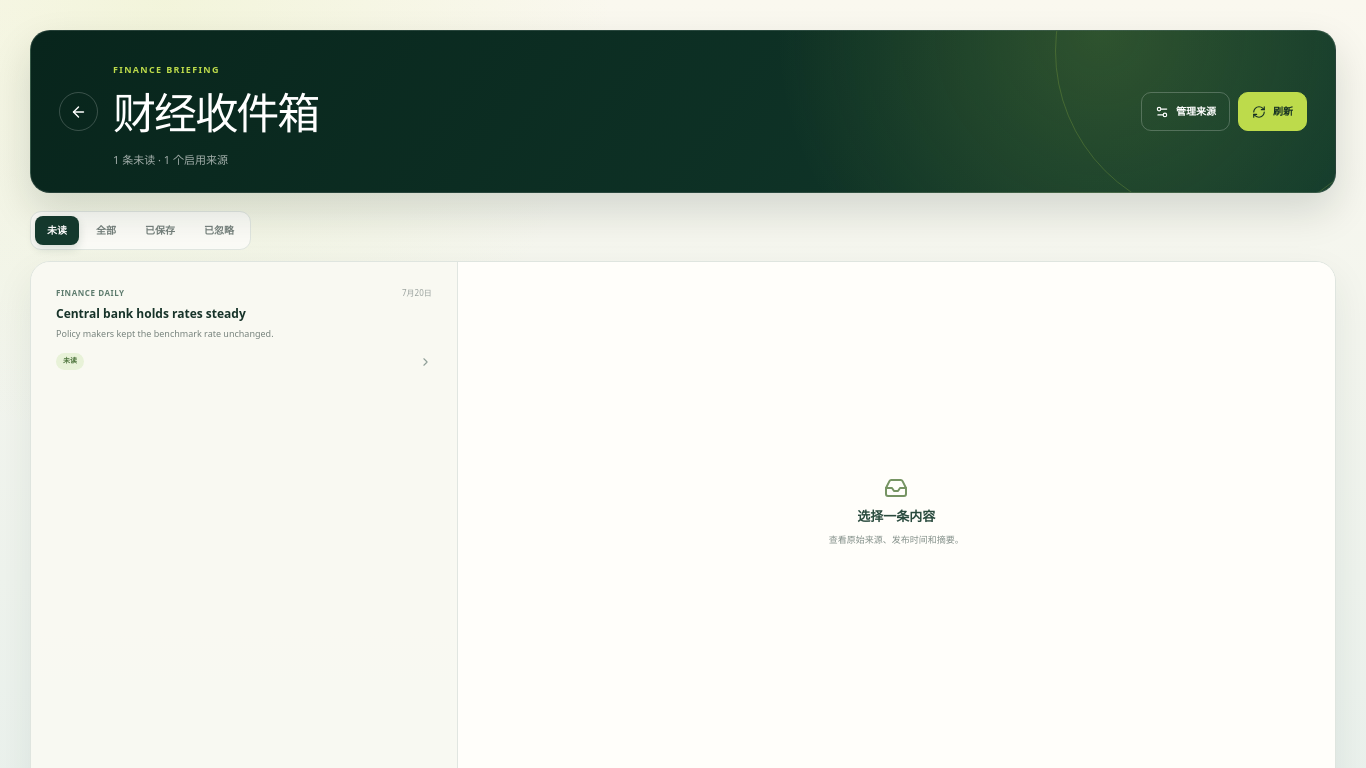
FinanceInboxPage › shows source provenance and keeps content outside CFO advice and knowledge
Click the button "Central bank holds rates steady": coordinates (244, 330) [41, 272, 447, 389]
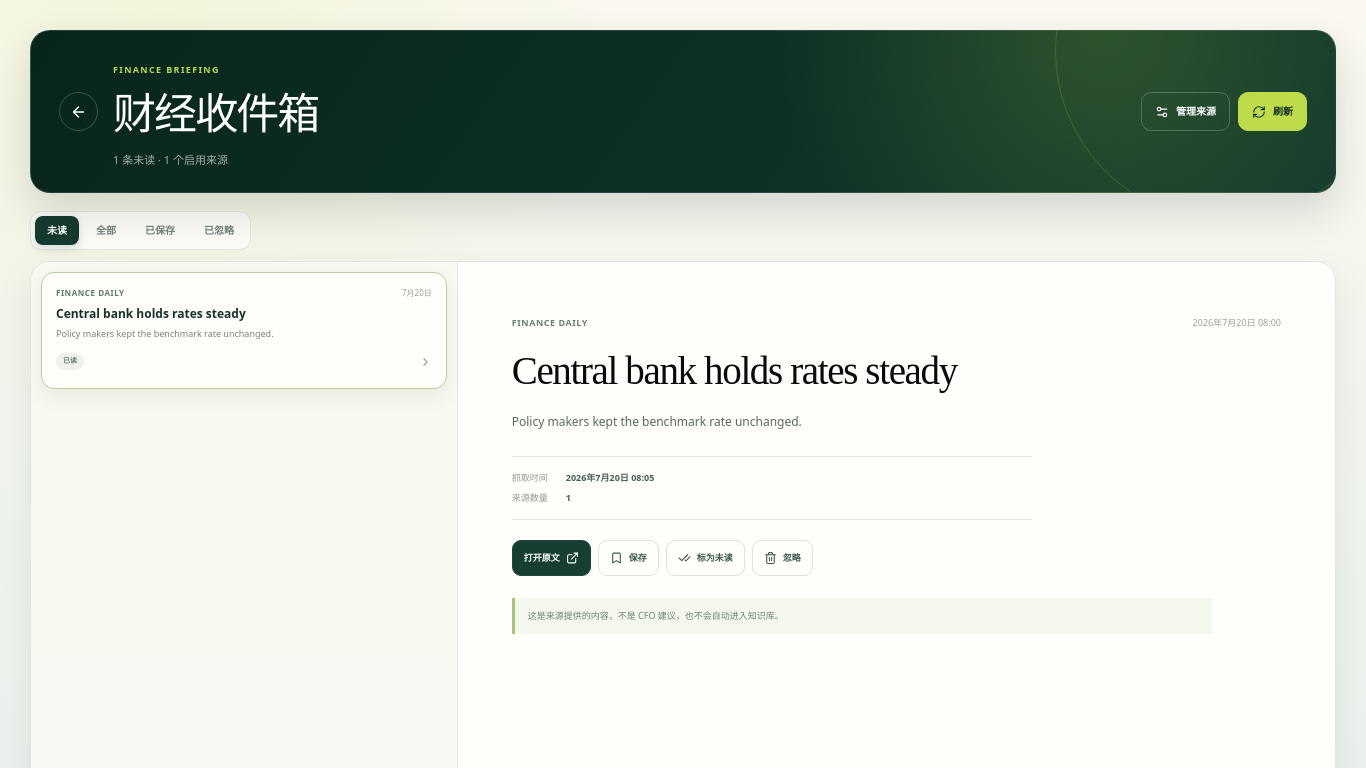
Now the text "这是来源提供的内容，不是 CFO 建议，也不会自动进入知识库。" is shown, box [512, 598, 1212, 634]
